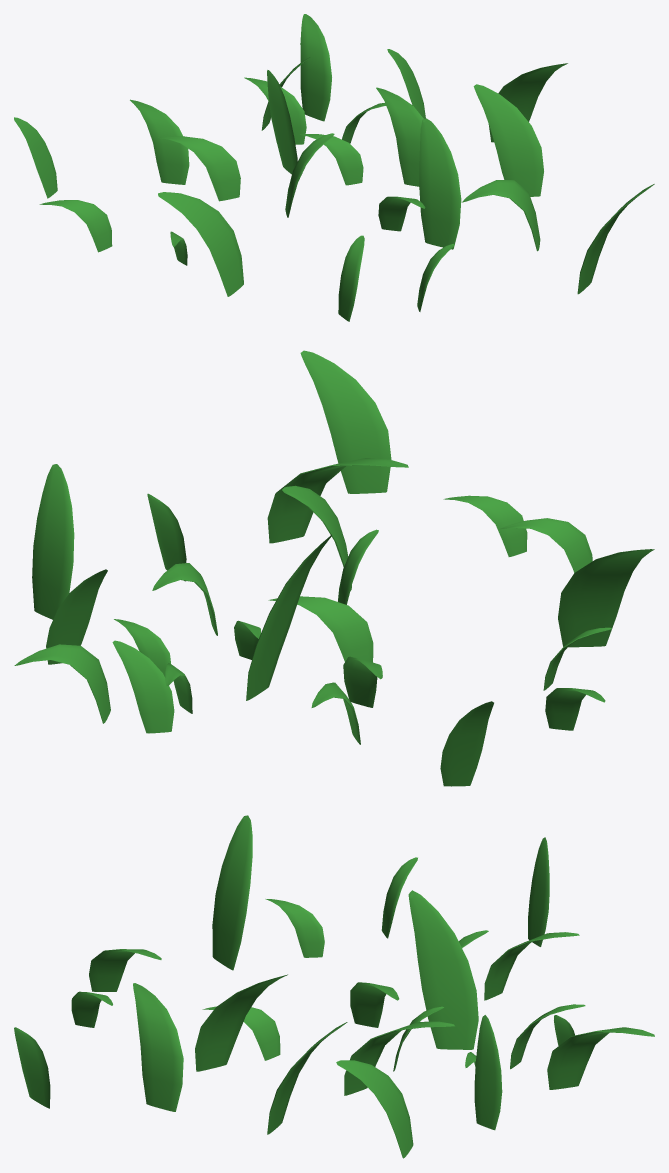
File: grass clump 2.fbx
3 views of the same model, one above another, from view 1: azimuth 30°, elevation 25°; view 2: azimuth 150°, elevation 25°; view 3: azimuth 270°, elevation 25° (orthographic). The views are drawn at different scales.
Parts seen in each view (by area): view 1: Grass Clump 2; view 2: Grass Clump 2; view 3: Grass Clump 2.
Part boxes in pixels (left/top/right/bottom): Grass Clump 2: left=14, top=14, right=654, bottom=321; Grass Clump 2: left=14, top=350, right=654, bottom=786; Grass Clump 2: left=14, top=815, right=654, bottom=1158.
Size of the model in its own units: 227 by 56 by 237.
